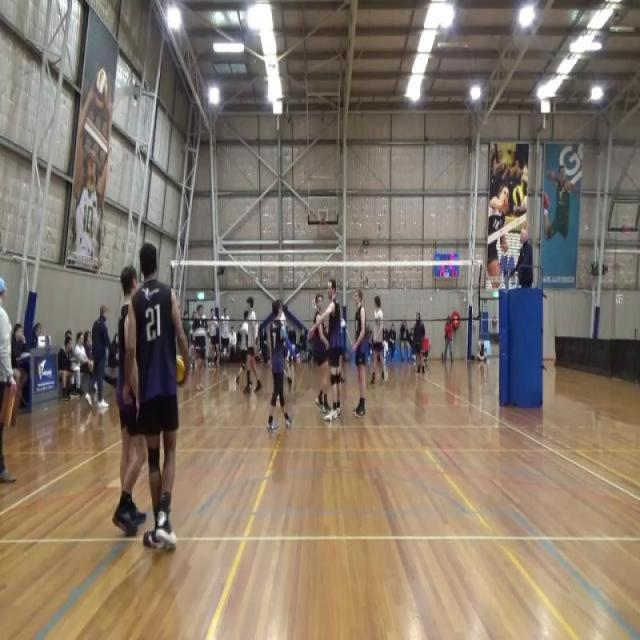volleyball: (94, 68, 107, 108), (173, 354, 186, 382), (512, 184, 524, 206)
